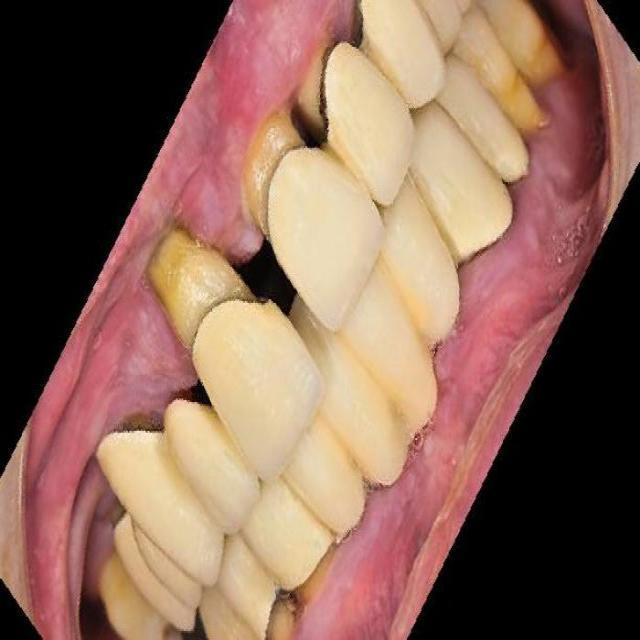CALCULUS: (147, 229, 255, 351), (242, 112, 304, 235), (496, 72, 550, 134), (295, 544, 334, 607)
